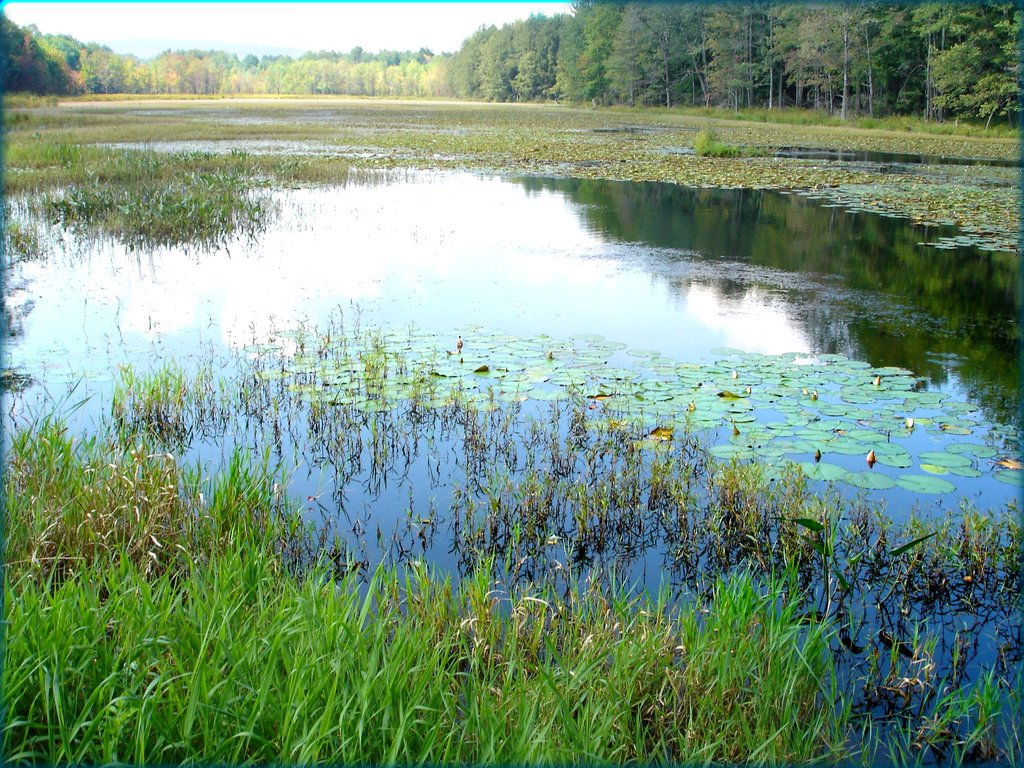Tree: (0, 0, 1024, 128)
